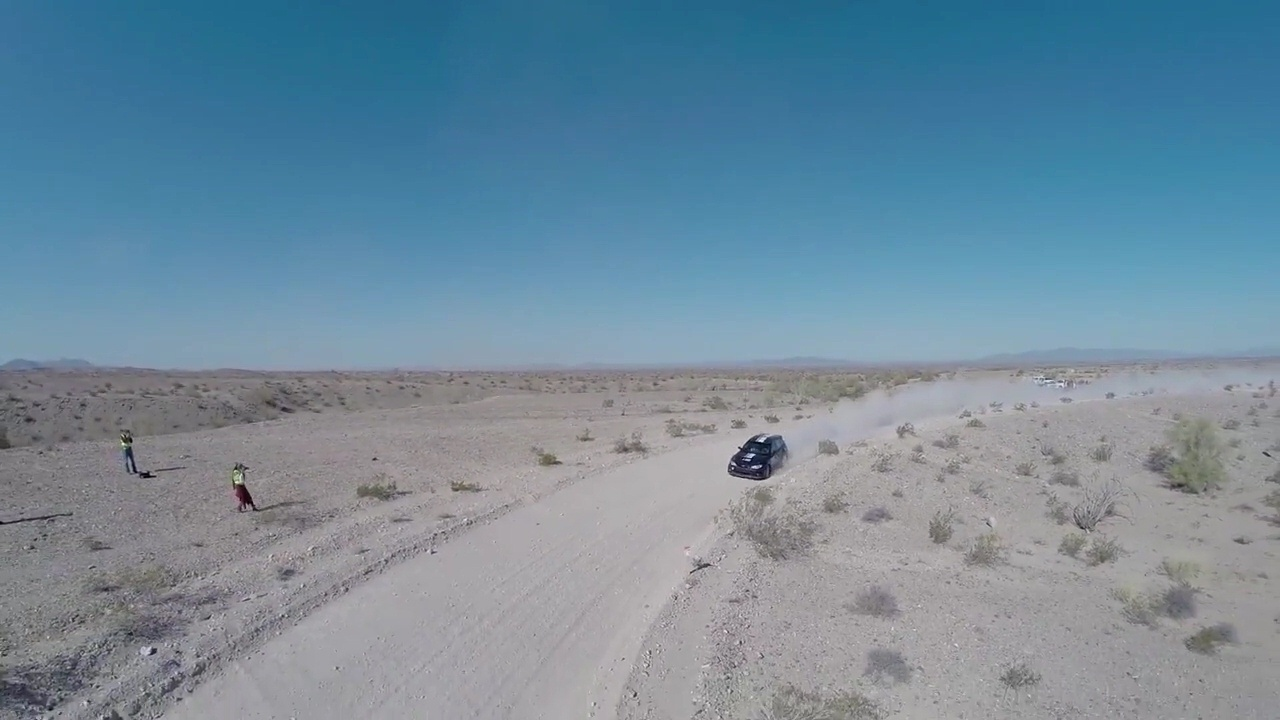araba: (725, 432, 787, 479)
insan: (230, 456, 263, 514), (117, 429, 148, 474)
